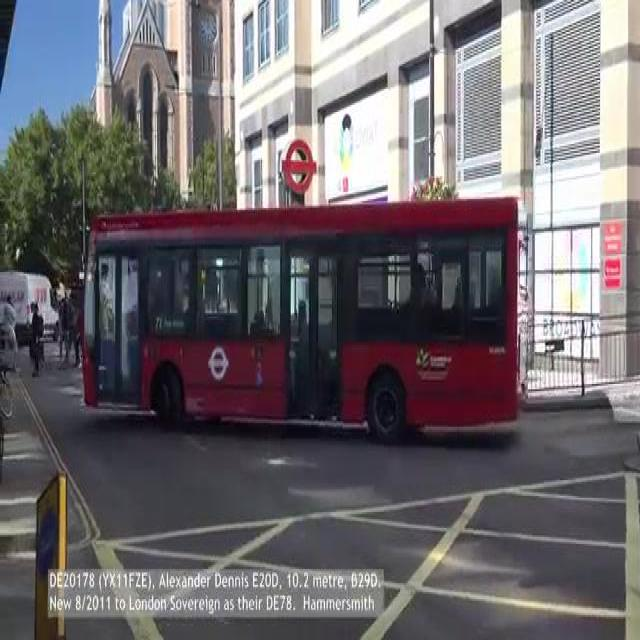motorcycle: (81, 199, 522, 434)
